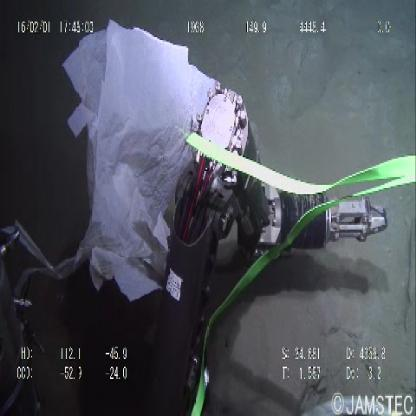Rov: (151, 78, 392, 380)
Rác: (52, 16, 222, 312)
